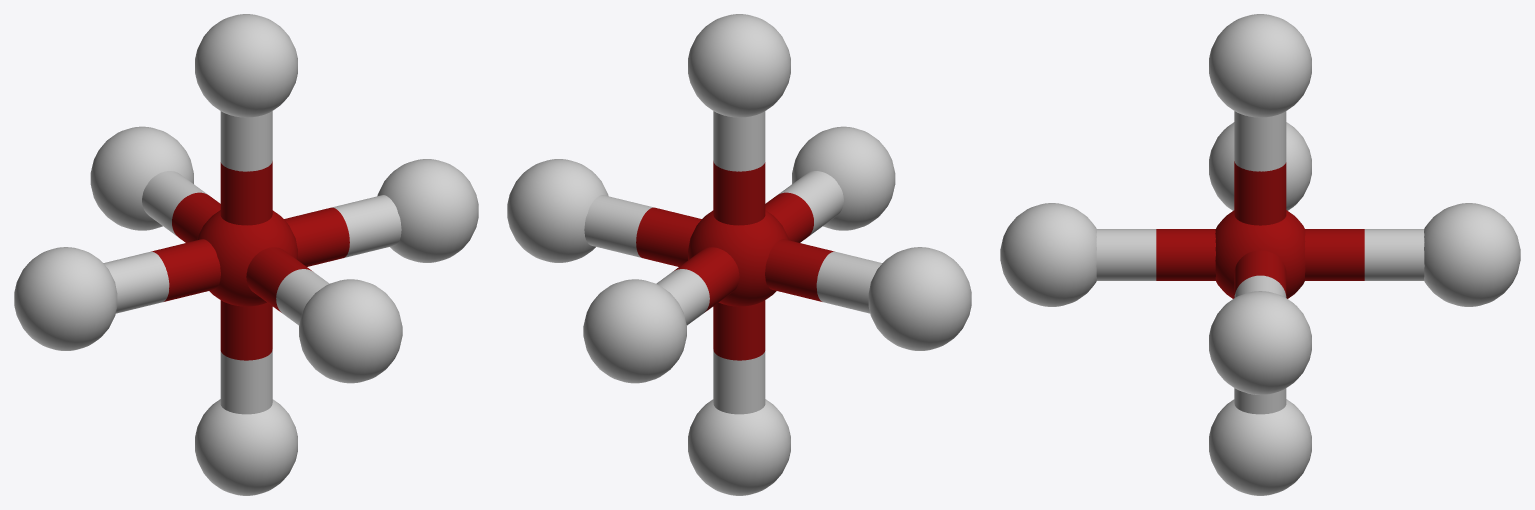
File: Atom Shape 9 - Octahedral.fbx
3 renders of one model, left to right at view 1: azimuth 30°, elevation 25°; view 2: azimuth 150°, elevation 25°; view 3: azimuth 270°, elevation 25°, orthographic.
Parts seen in each view (by area): view 1: Sphere_1_5, Sphere_1_4, Sphere_1, Sphere_1_2, Sphere_1_6, Sphere_1_3, Sphere, Cylinder_t, Cylinder_2_2, Cylinder_2, Cylinder_b, Cylinder_2_7 (+7 smaller); view 2: Sphere_1_5, Sphere_1_3, Sphere_1, Sphere_1_2, Sphere_1_6, Sphere_1_4, Sphere, Cylinder_t, Cylinder_2_2, Cylinder_2, Cylinder_b, Cylinder_1_2 (+7 smaller); view 3: Sphere_1_6, Sphere_1, Sphere_1_3, Sphere_1_4, Sphere_1_2, Sphere, Sphere_1_5, Cylinder_2_3, Cylinder_2_4, Cylinder_1, Cylinder, Cylinder_t (+4 smaller).
Boxes of the visible parts, x1,y1,x2,y2 form: Sphere_1_5: [14, 247, 117, 350]; Sphere_1_4: [299, 279, 402, 383]; Sphere_1: [195, 14, 297, 117]; Sphere_1_2: [195, 399, 297, 495]; Sphere_1_6: [377, 159, 478, 262]; Sphere_1_3: [90, 126, 193, 230]; Sphere: [197, 210, 297, 306]; Cylinder_t: [220, 161, 272, 225]; Cylinder_2_2: [220, 349, 272, 414]; Cylinder_2: [220, 111, 272, 171]; Cylinder_b: [220, 300, 272, 360]; Cylinder_2_7: [332, 195, 401, 257]; Sphere_1_5: [868, 247, 971, 350]; Sphere_1_3: [583, 279, 686, 383]; Sphere_1: [688, 14, 790, 117]; Sphere_1_2: [688, 399, 790, 495]; Sphere_1_6: [507, 159, 608, 262]; Sphere_1_4: [792, 126, 895, 230]; Sphere: [688, 210, 788, 306]; Cylinder_t: [713, 161, 765, 225]; Cylinder_2_2: [713, 349, 765, 414]; Cylinder_2: [713, 111, 765, 171]; Cylinder_b: [713, 300, 765, 360]; Cylinder_1_2: [765, 239, 834, 301]; Sphere_1_6: [1209, 291, 1311, 394]; Sphere_1: [1209, 14, 1311, 117]; Sphere_1_3: [1424, 203, 1520, 306]; Sphere_1_4: [1000, 203, 1096, 306]; Sphere_1_2: [1209, 399, 1311, 495]; Sphere: [1215, 210, 1305, 298]; Sphere_1_5: [1209, 122, 1311, 210]; Cylinder_2_3: [1364, 229, 1424, 280]; Cylinder_2_4: [1096, 229, 1156, 280]; Cylinder_1: [1305, 229, 1364, 280]; Cylinder: [1156, 229, 1215, 280]; Cylinder_t: [1234, 161, 1286, 225].
Size of the model in its own units: 1000 by 1001 by 1000.
